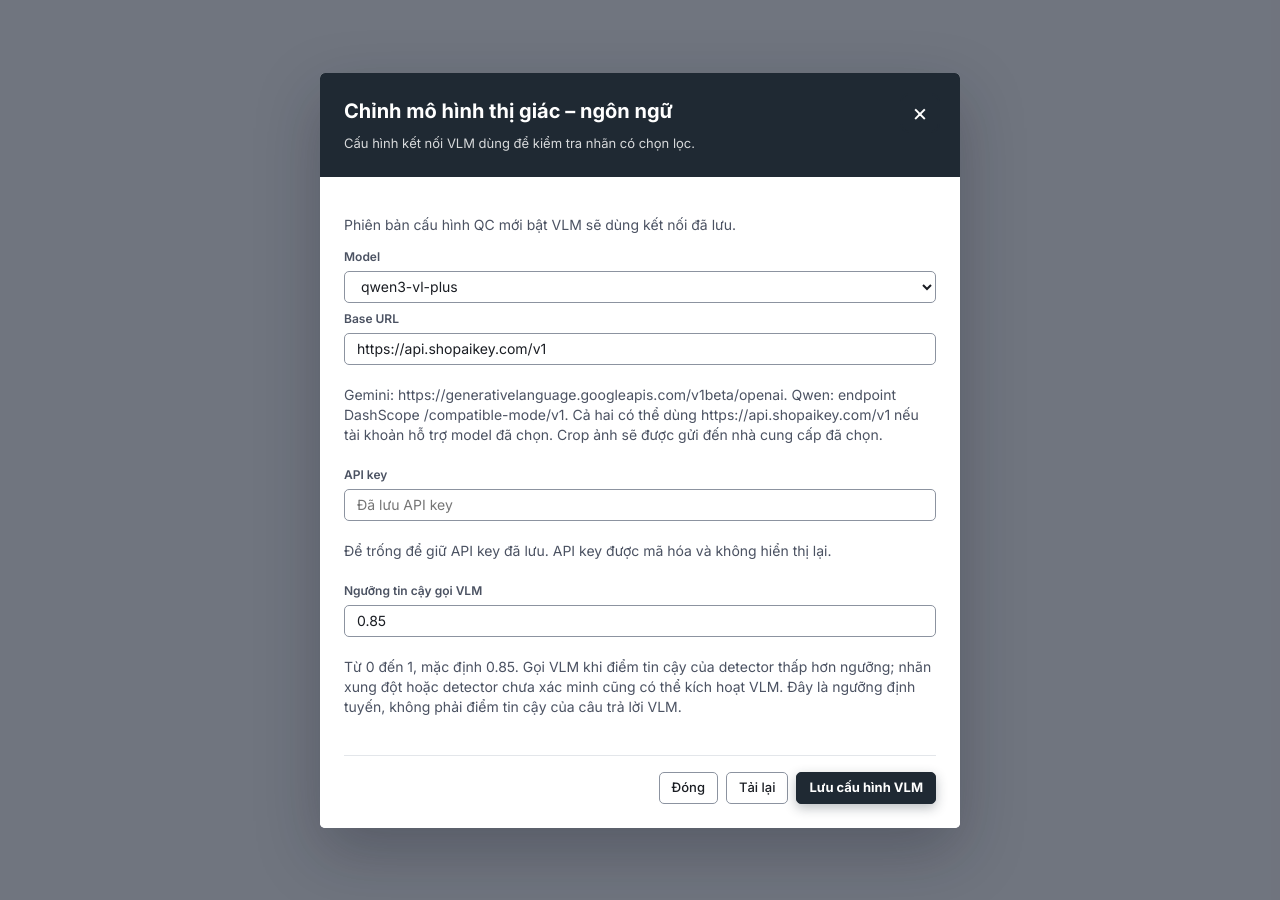
VLM settings › submits a replacement key and clears it after save
This screenshot has width=1280, height=900.
In the password field labelled "API key": (640, 504) [344, 488, 936, 520], type "replacement-secret"
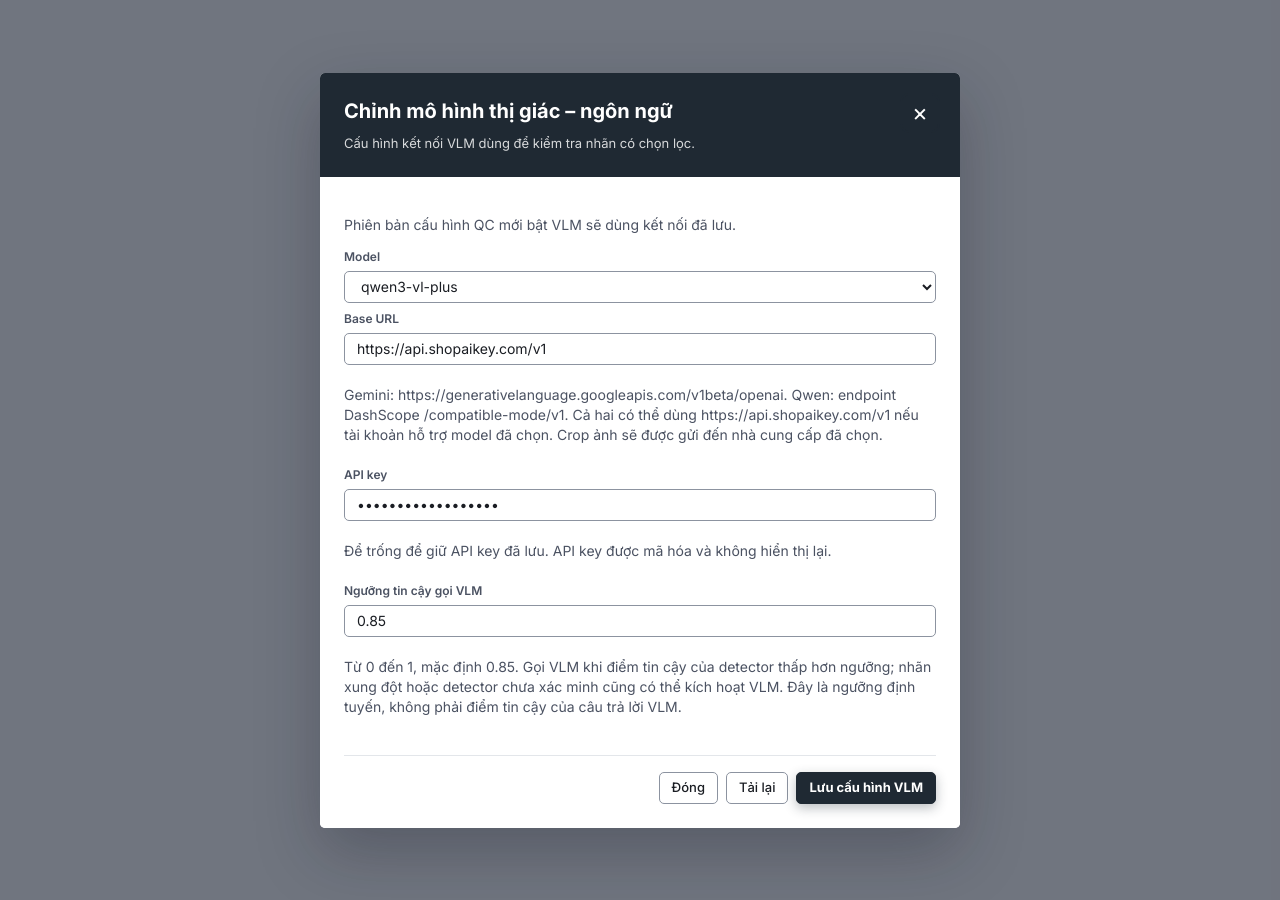
Click the button "Lưu cấu hình VLM": (866, 788) [796, 772, 936, 804]
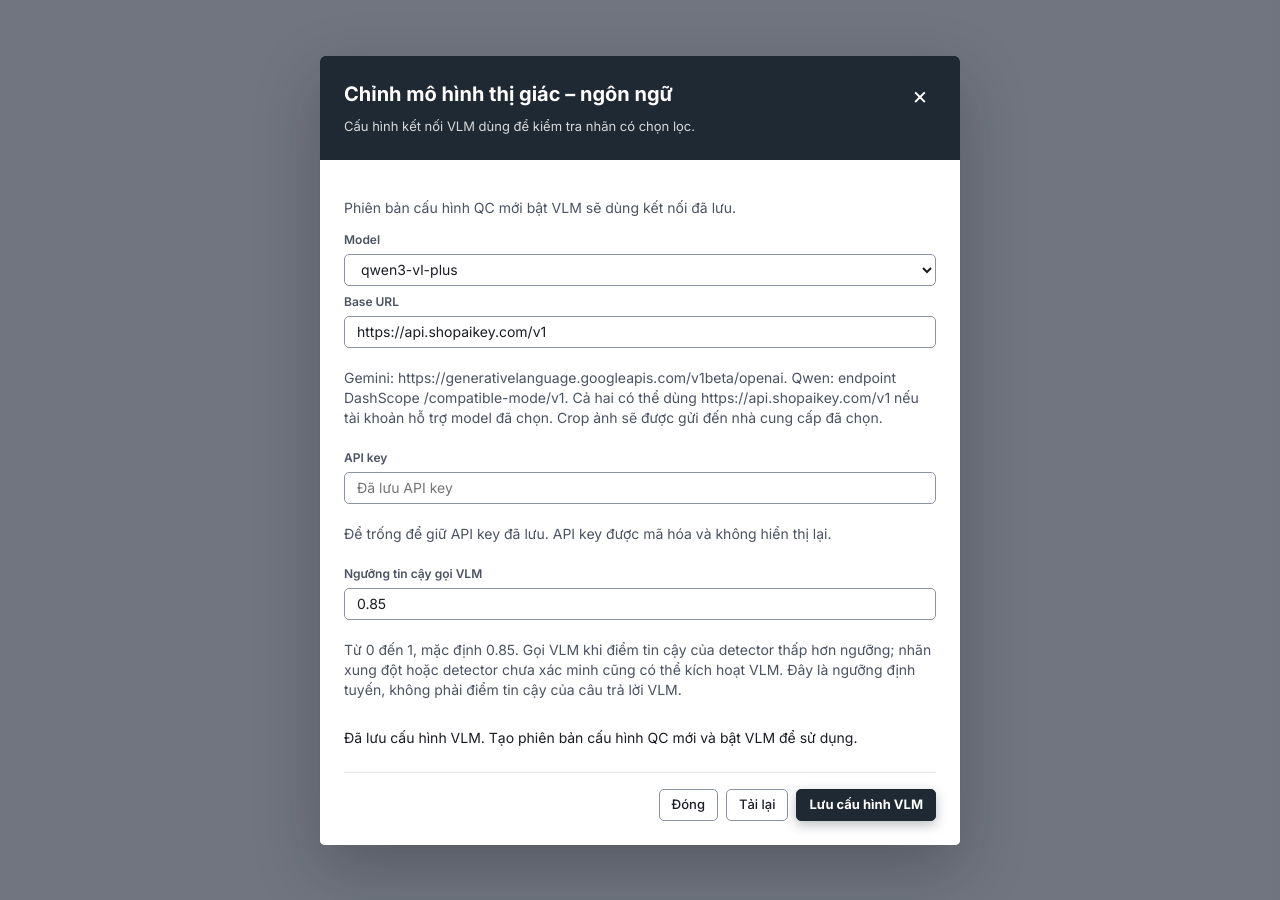
Check: the text "Đã lưu cấu hình VLM. Tạo phiên bản cấu hình QC mới và bật VLM để sử dụng." is shown, box [344, 728, 936, 748]
Check: the password field labelled "API key" is empty, box [344, 472, 936, 504]
